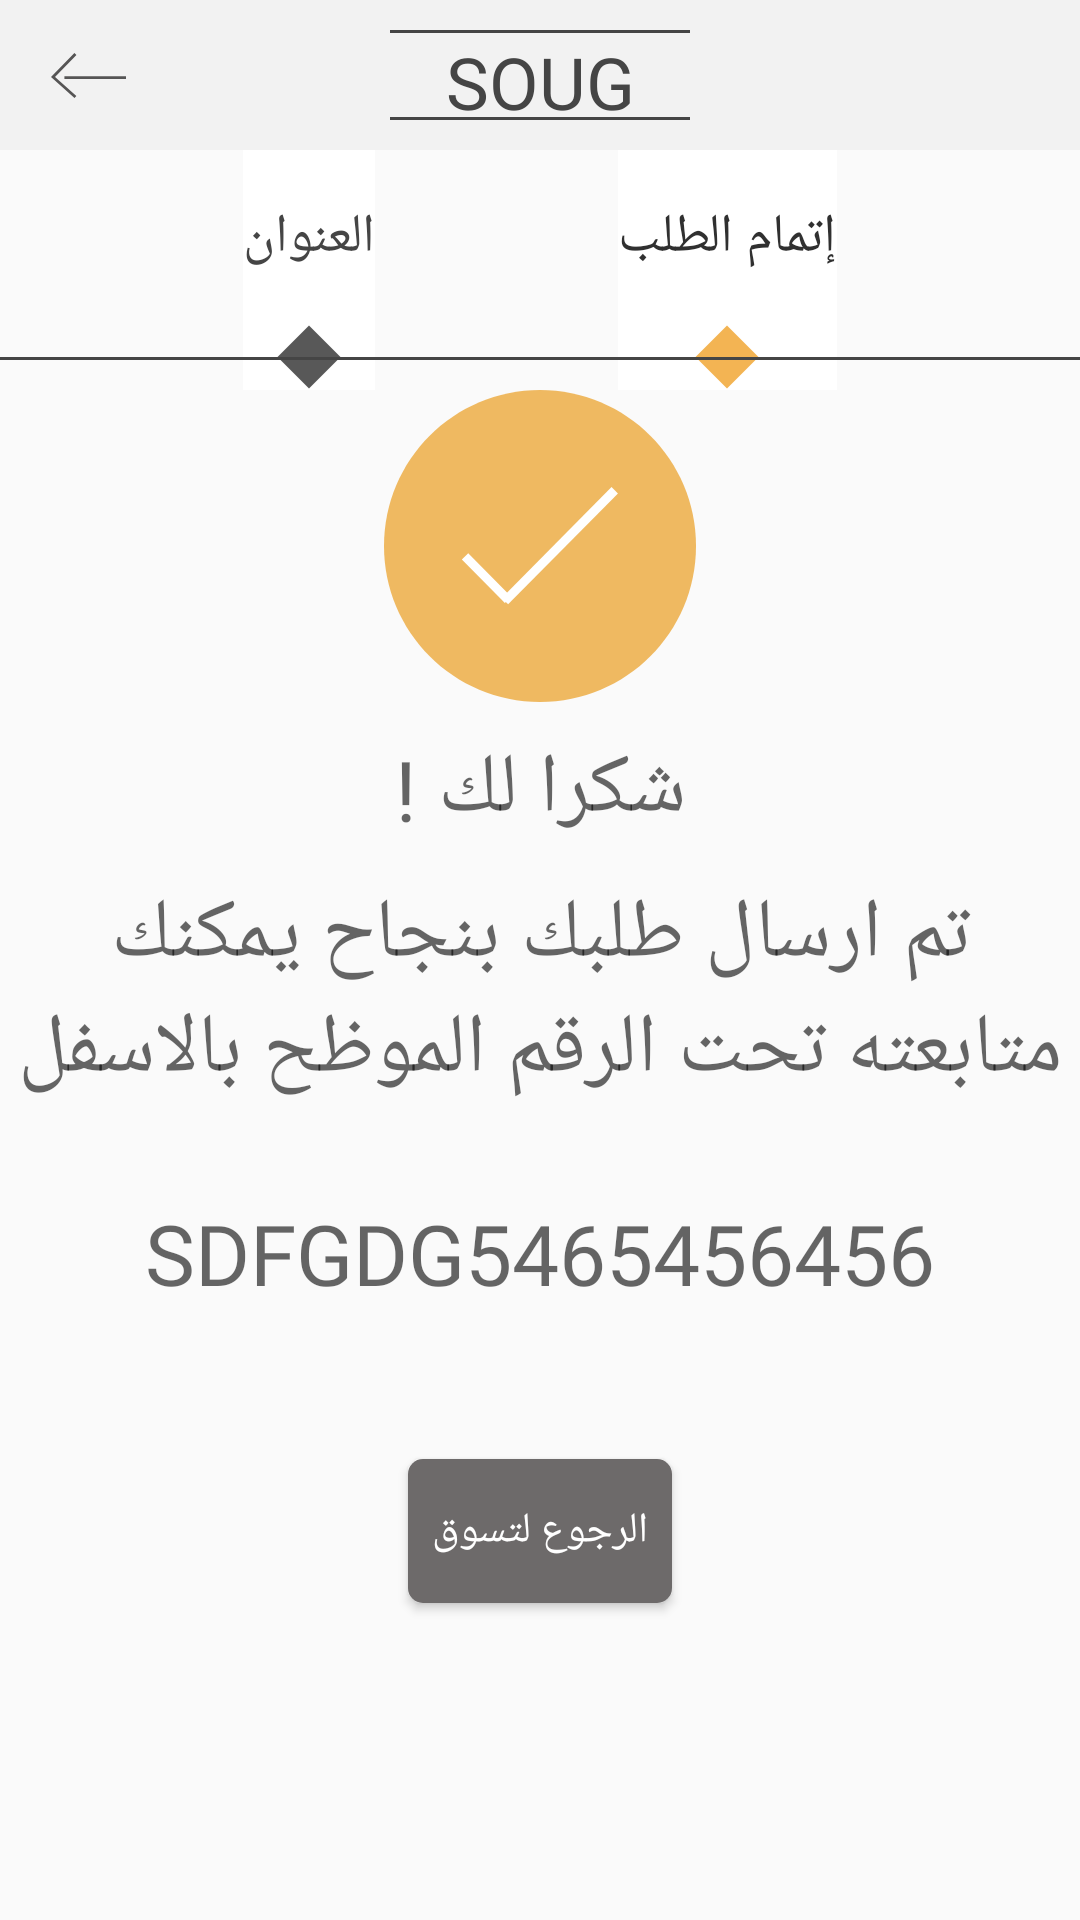

Icons on this 1080 x 1920 Android screen, each with its box as {"x1": x1, "y1": y1, "x2": x2, "y2": y2}:
back: {"x1": 51, "y1": 53, "x2": 126, "y2": 98}
check: {"x1": 384, "y1": 390, "x2": 696, "y2": 702}
